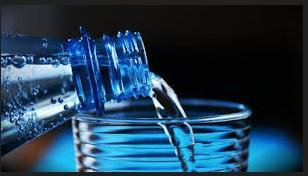bottle: (0, 11, 155, 119)
